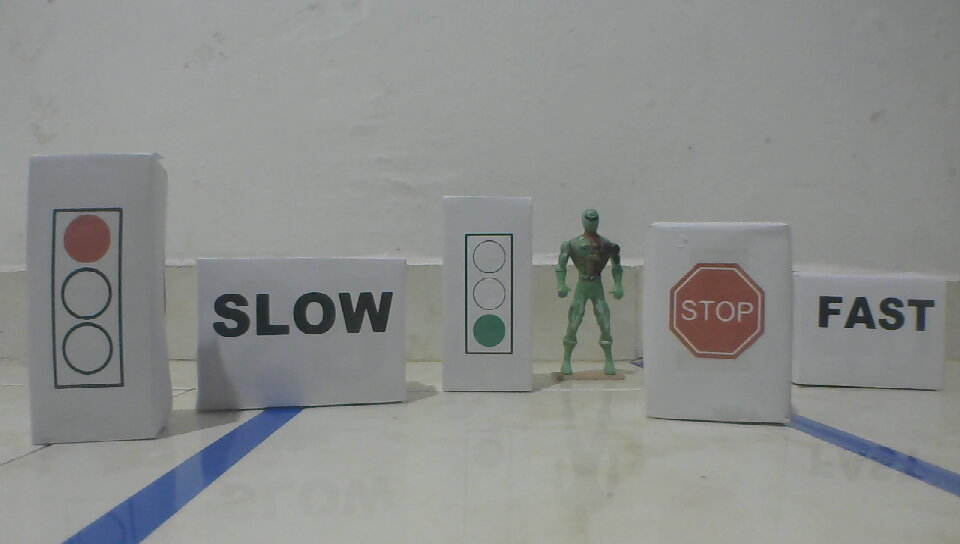Fast: (815, 292, 936, 334)
Green Traffic Light: (463, 231, 517, 358)
Person: (553, 206, 625, 383)
Red Traffic Light: (49, 205, 128, 393)
Slow: (211, 290, 396, 338)
Stop Sign: (665, 261, 768, 362)
